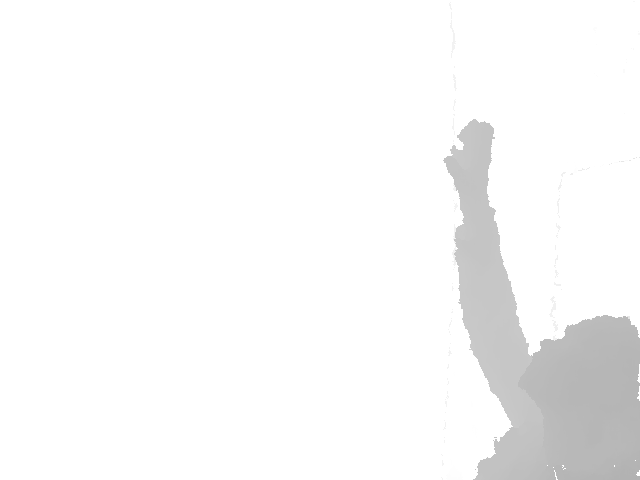hand: (443, 119, 496, 192)
head: (517, 312, 640, 407)
person: (443, 118, 640, 480)
